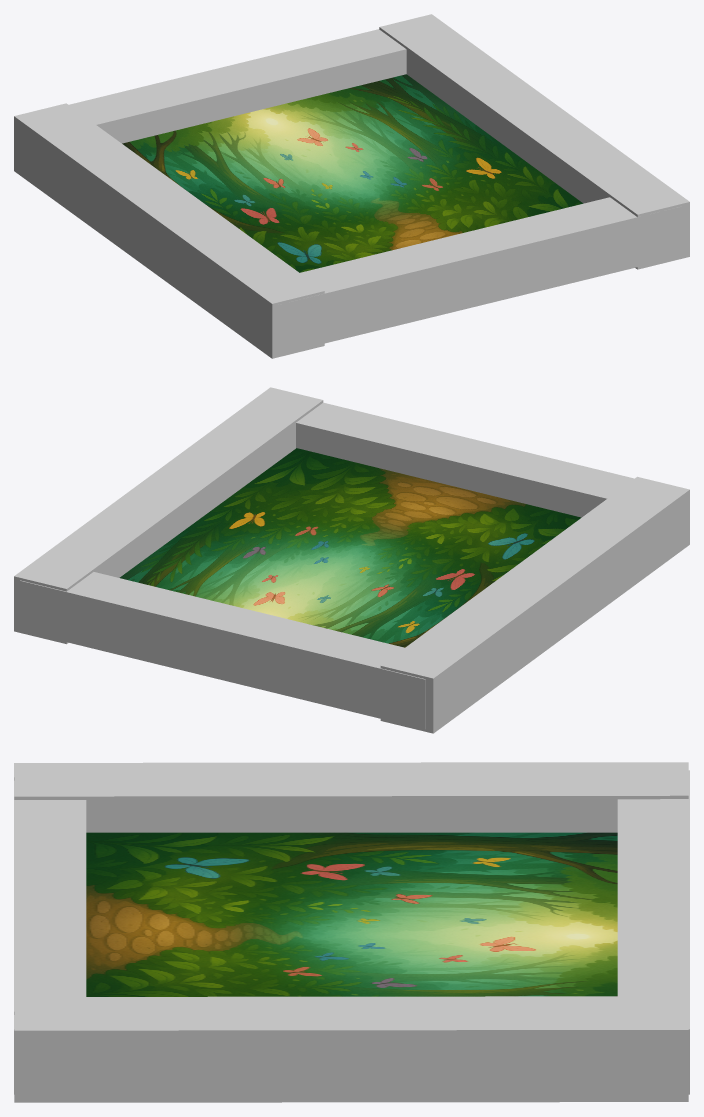
File: Mariposas.fbx
3 renders of one model, top to bottom at view 1: azimuth 30°, elevation 25°; view 2: azimuth 150°, elevation 25°; view 3: azimuth 270°, elevation 25°, orthographic. The views are drawn at different scales.
Visible parts, largest first — view 1: Cube.003, Plane; view 2: Cube.003, Plane; view 3: Cube.003, Plane.
Part boxes in pixels (<box>): Cube.003: <box>14,14,689,358</box>; Plane: <box>122,74,582,272</box>; Cube.003: <box>14,387,689,733</box>; Plane: <box>119,448,581,647</box>; Cube.003: <box>14,762,689,1102</box>; Plane: <box>86,832,617,996</box>.
Size of the model in its own units: 8780 by 1100 by 9342.
Materials: 1 (1 with a texture image).
